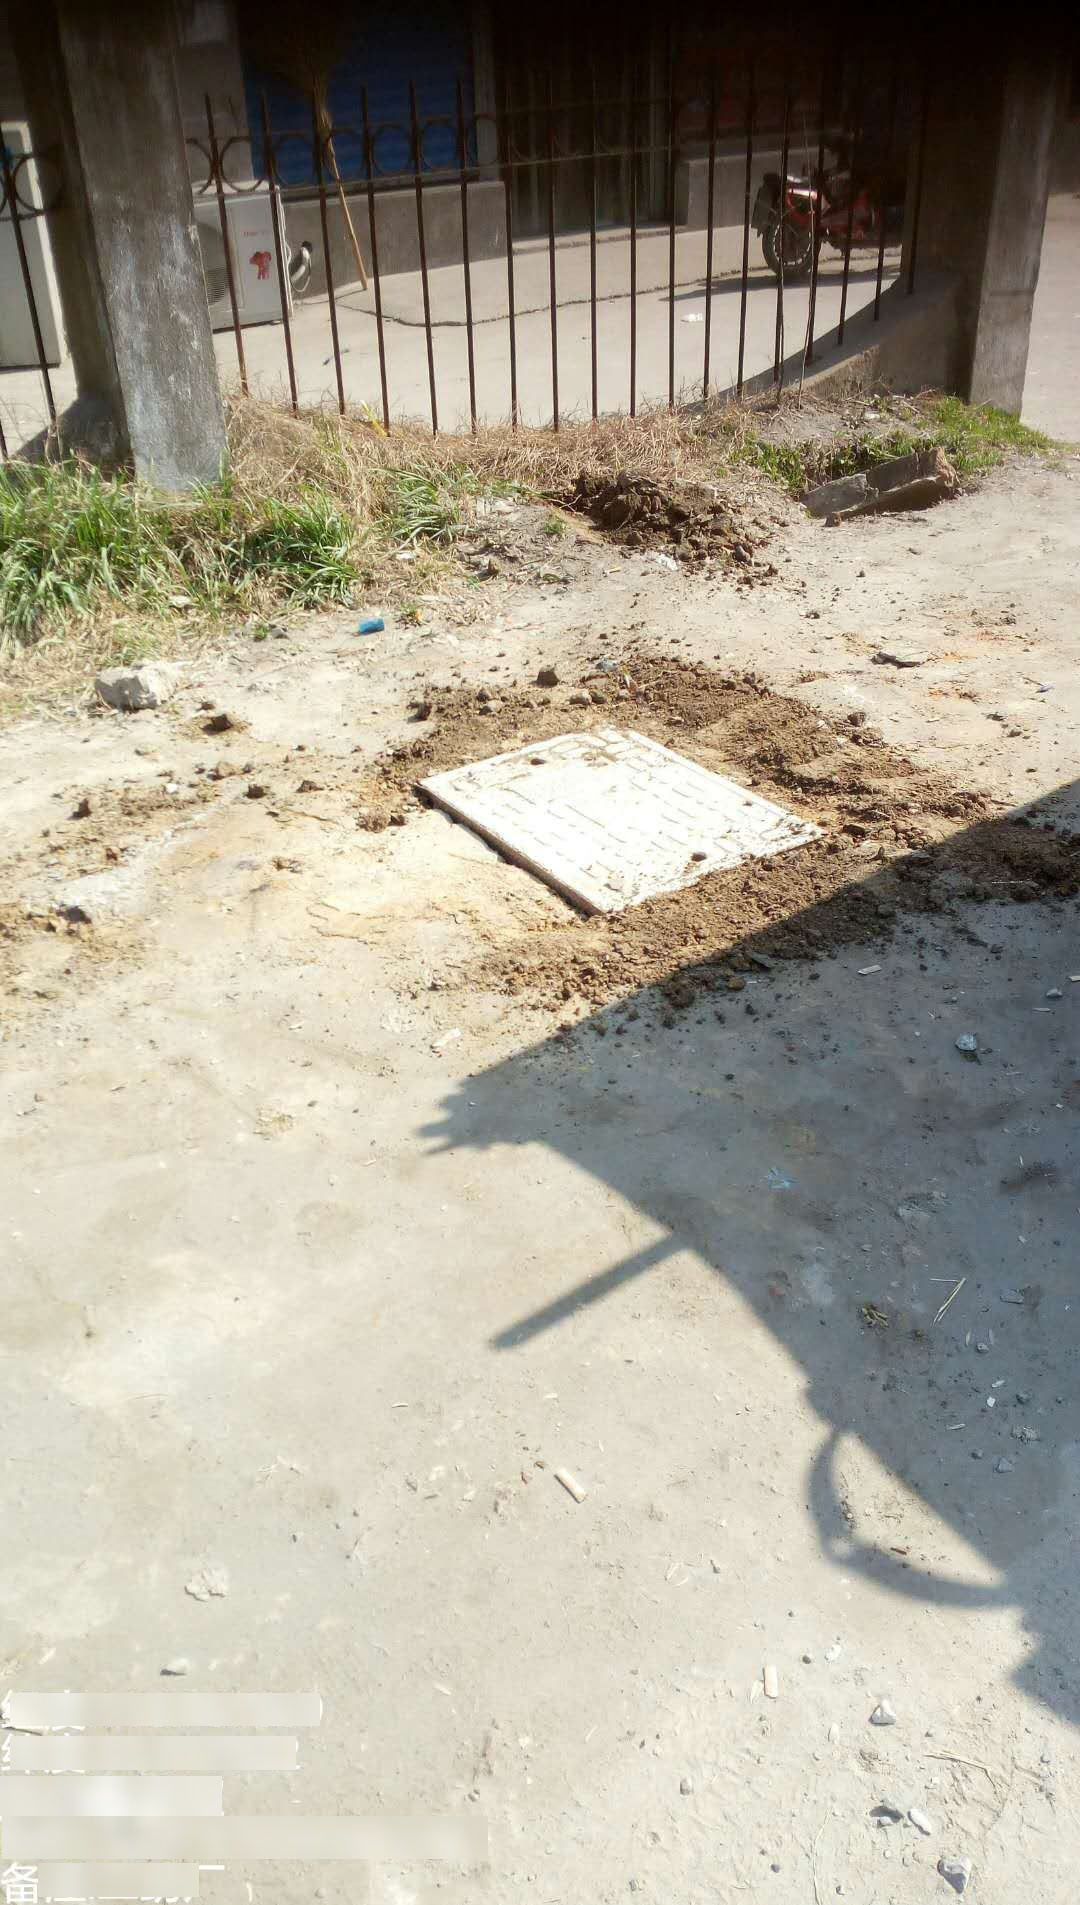good: (416, 722, 821, 909)
